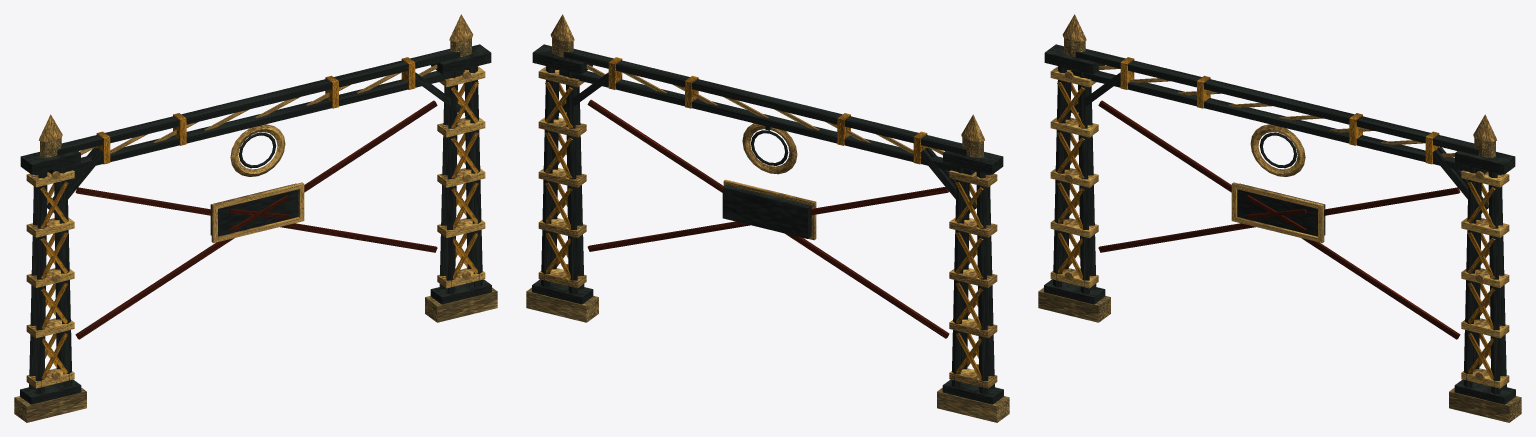
Rendered from north-silence-gate.glb.
The picture shows the model from 3 angles, left to right: view 1: azimuth 30°, elevation 25°; view 2: azimuth 150°, elevation 25°; view 3: azimuth 330°, elevation 25°; orthographic projection.
Visible parts, largest first — view 1: north-silence-gate; view 2: north-silence-gate; view 3: north-silence-gate.
Part boxes in pixels (bbox=[...]): north-silence-gate: bbox=[14, 14, 497, 422]; north-silence-gate: bbox=[526, 14, 1009, 422]; north-silence-gate: bbox=[1038, 14, 1521, 422].
Size of the model in its own units: 10.64 by 6.41 by 0.485.
1 material, 1 textured.
